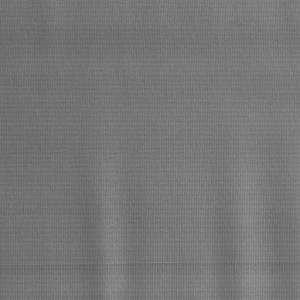Wrinkle: (65, 150, 300, 300)
